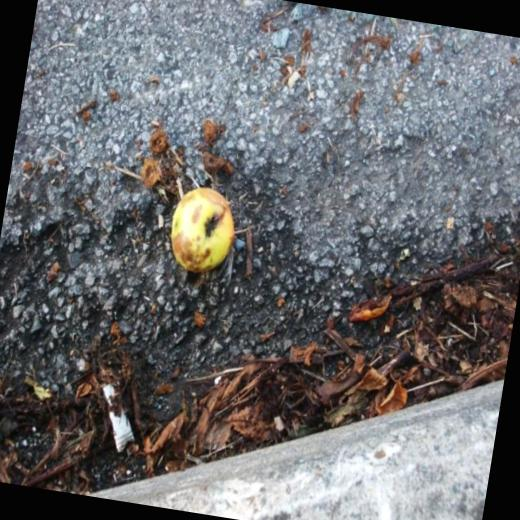Apple: (158, 180, 245, 286)
